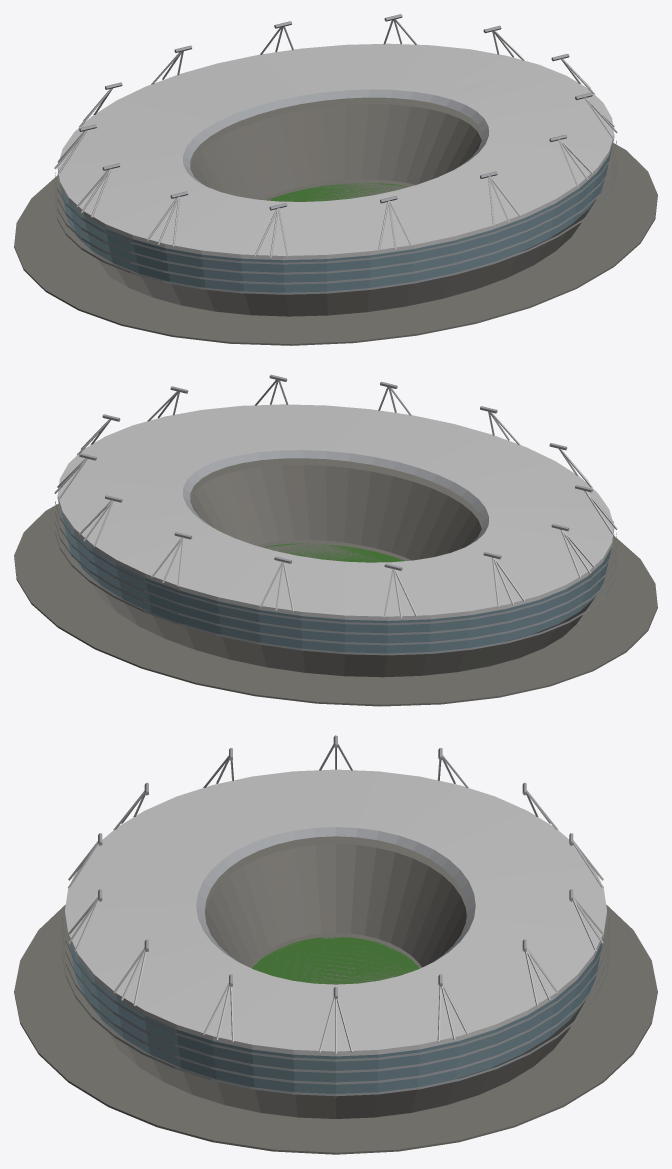
Rendered from london_stadium.glb.
The picture shows the model from 3 angles, top to bottom: view 1: azimuth 30°, elevation 25°; view 2: azimuth 150°, elevation 25°; view 3: azimuth 270°, elevation 25°; orthographic projection. The views are drawn at different scales.
Visible parts, largest first — view 1: london_stadium; view 2: london_stadium; view 3: london_stadium.
Part boxes in pixels (x1,y1,x2,y2): london_stadium: (14,14,657,345); london_stadium: (14,374,657,706); london_stadium: (14,735,657,1154).
Size of the model in its own units: 363 by 66.05 by 304.
